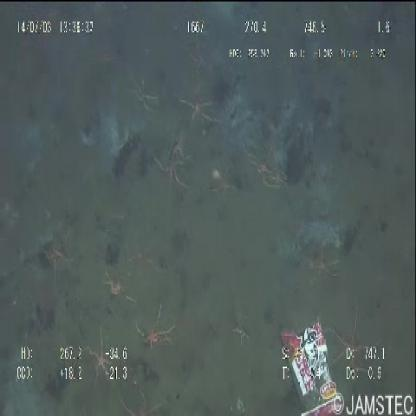Rác: (281, 322, 345, 414)
